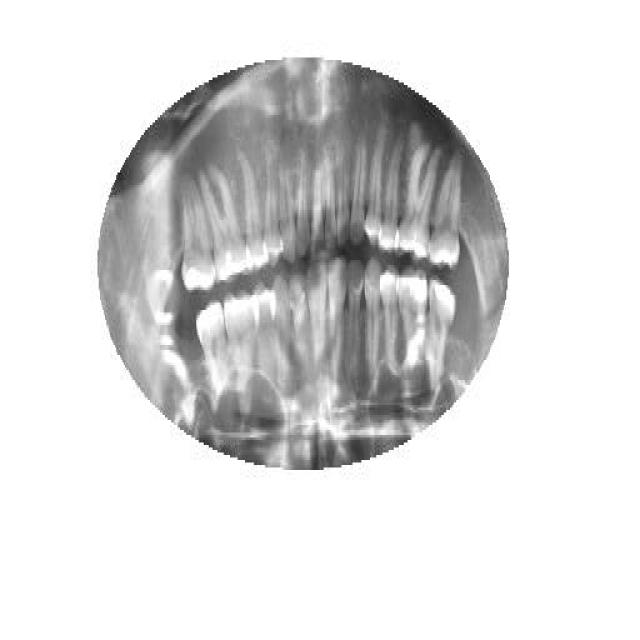Fillings: (198, 165, 252, 283), (426, 275, 456, 393), (224, 293, 258, 395), (196, 298, 228, 400), (182, 187, 212, 295), (398, 270, 428, 365), (380, 265, 399, 373)
